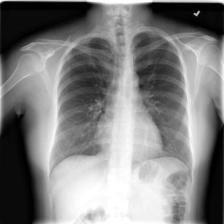normal: (49, 35, 194, 179)
